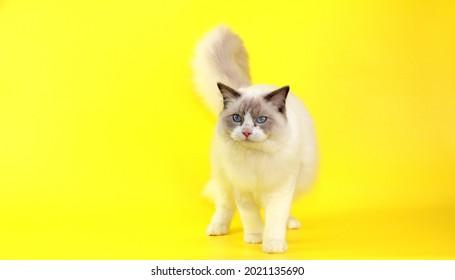ragdoll: (213, 78, 294, 157)
